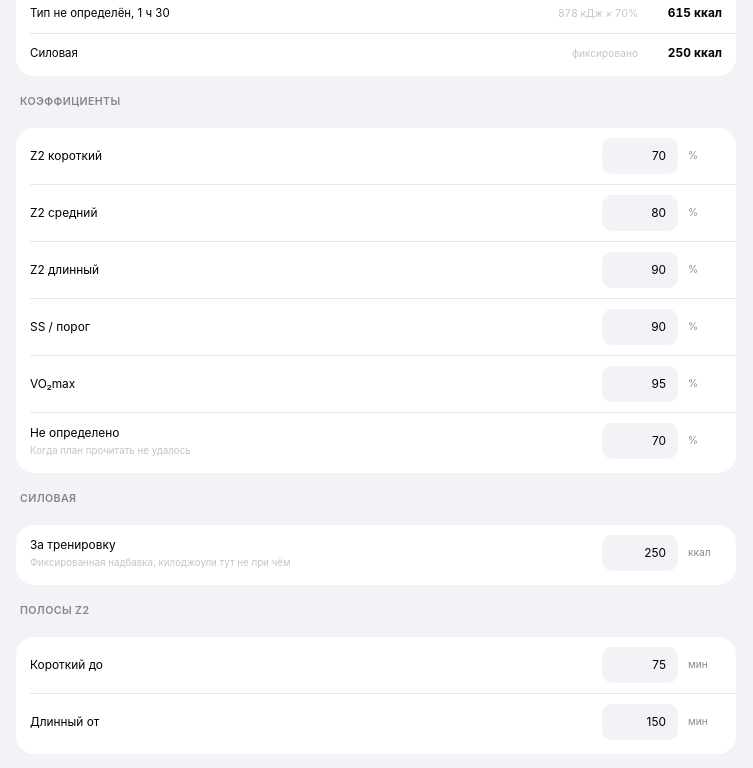
Scenario: resetting and re-syncing › discards edits without touching the server
(page scrolled)
Replace the text in the field named "VO₂max" with "50" at point(640, 384), box [602,366,678,402]
(page scrolled)
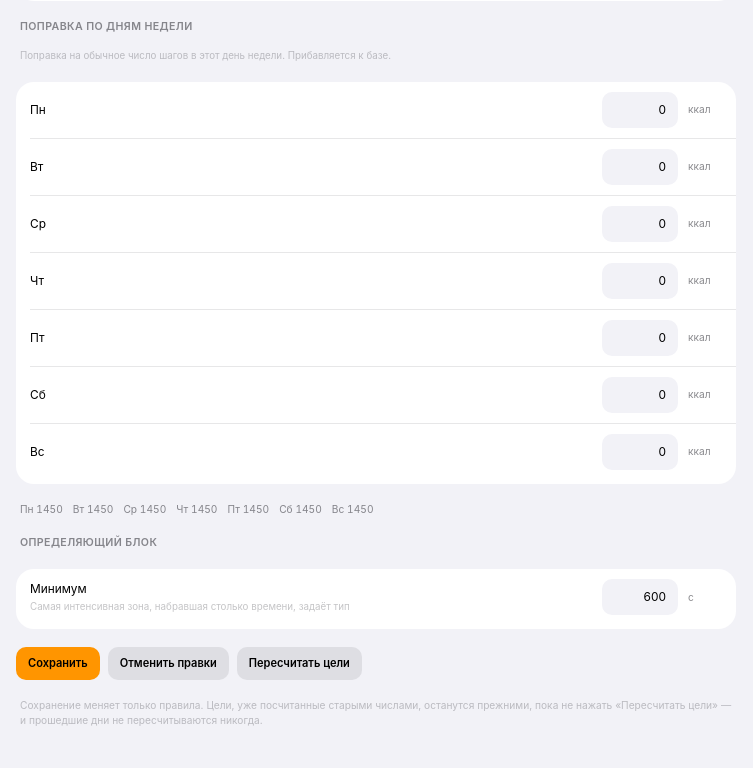
Click the button "Отменить правки" at point(168, 664), box [108,647,229,680]
(page scrolled)
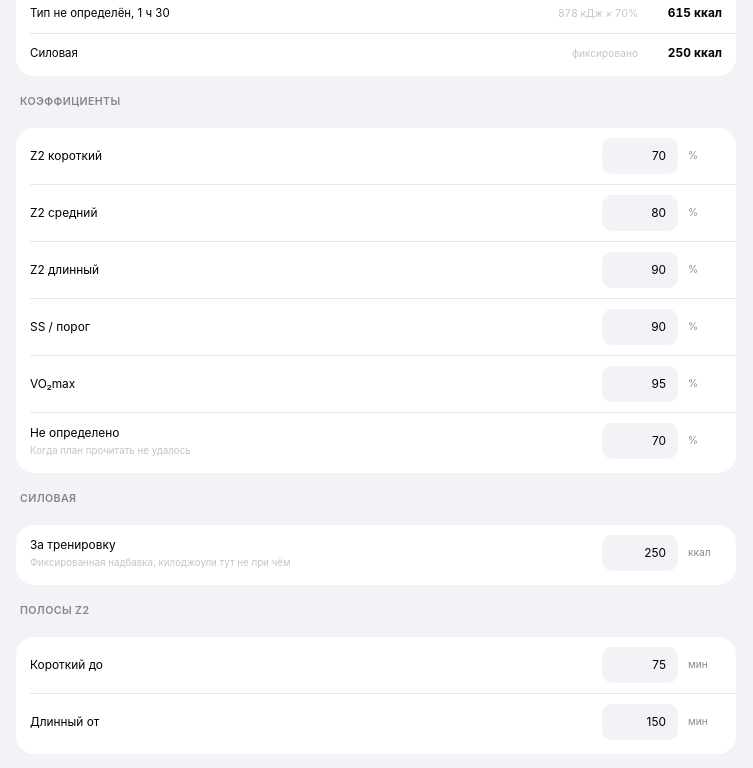
Expected: the field named "VO₂max" holds "95", [602,366,678,402]
